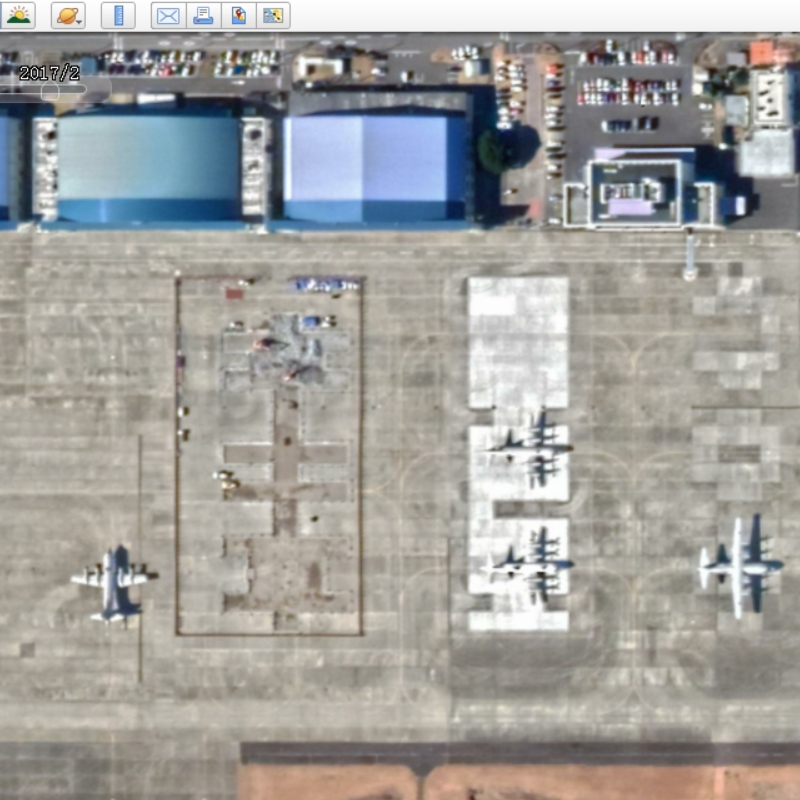A2: (691, 504, 779, 627)
A9: (67, 543, 157, 634), (478, 523, 571, 611), (482, 405, 569, 495)
